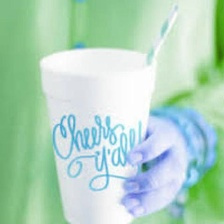drinking_straw: (139, 0, 186, 72)
paper_cup: (34, 43, 163, 223)
